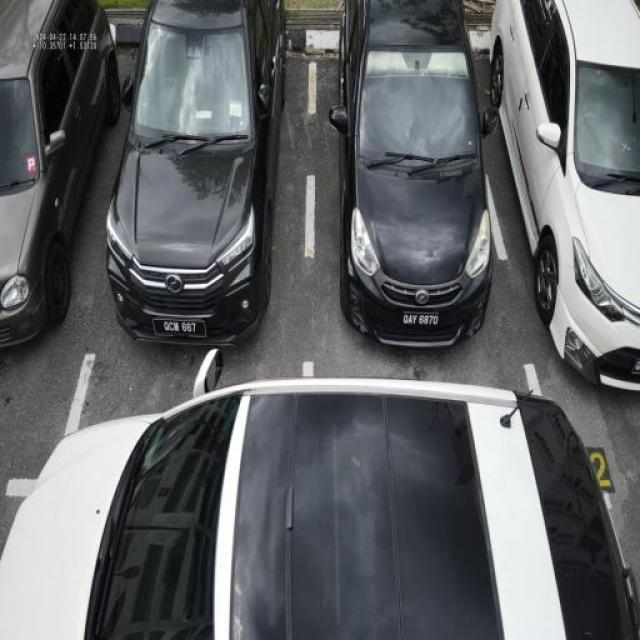Legalparking: (1, 1, 640, 422)
illegalparking: (0, 308, 538, 625)
